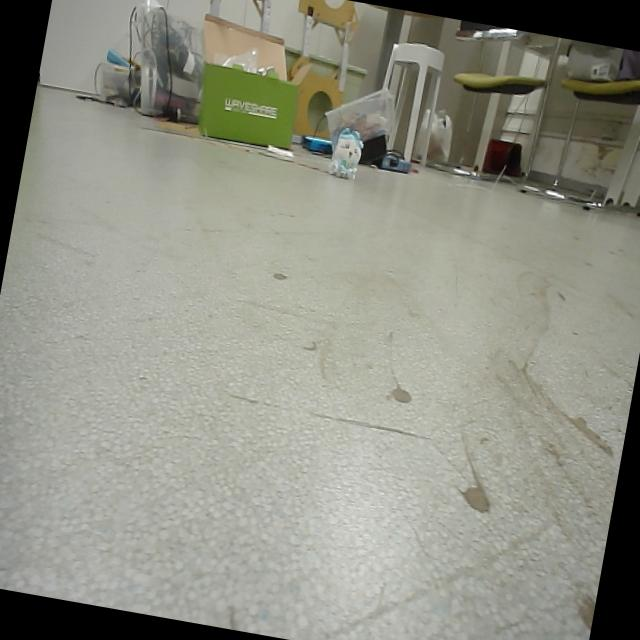xiaoba: (326, 121, 368, 181)
